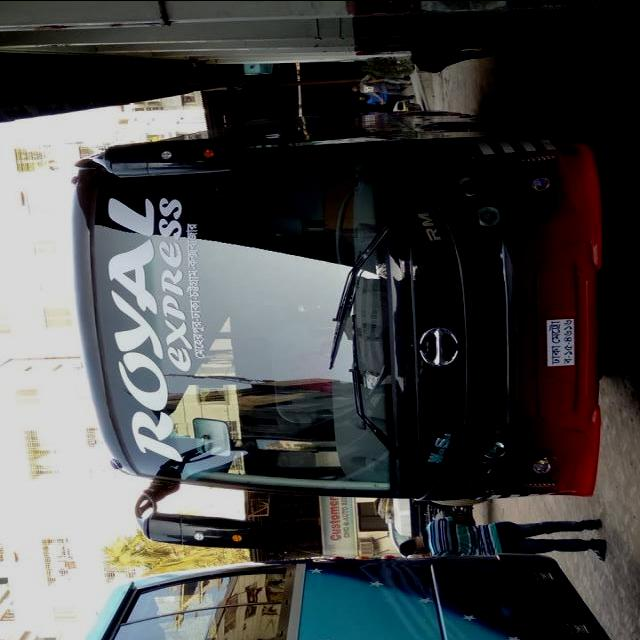bus: (74, 110, 600, 548)
